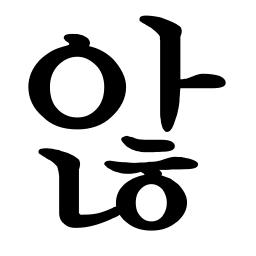Gaji: (147, 63, 200, 108)
